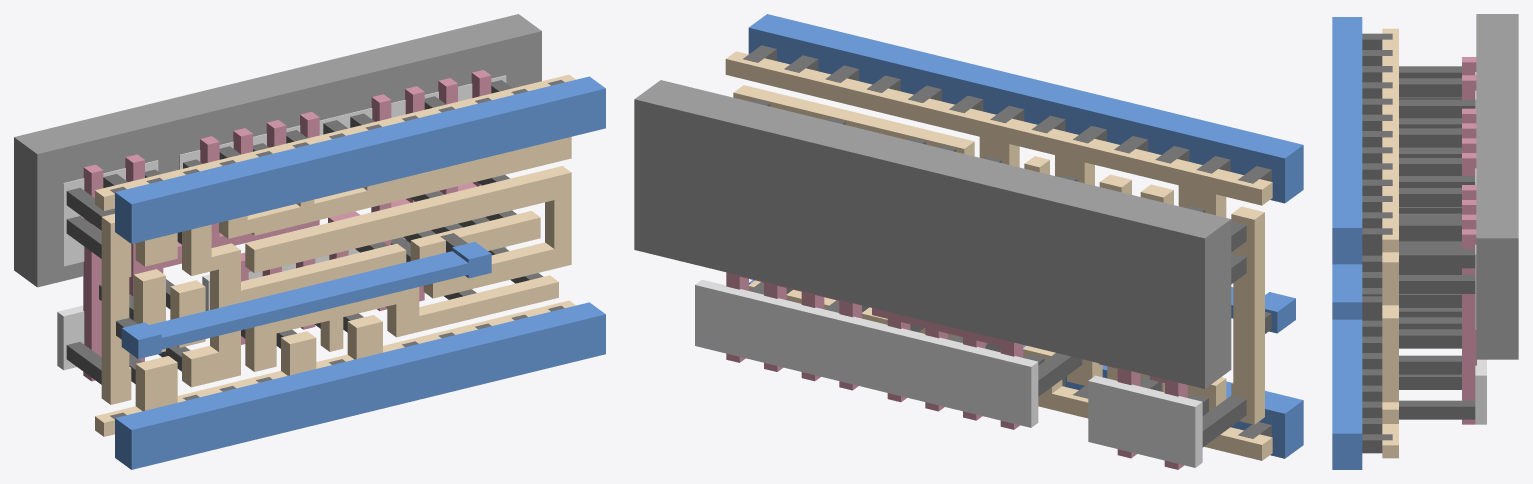
The model's file is sky130_fd_sc_hd__ebufn_4.gds.gltf.
3 views of the same model, side by side, from view 1: azimuth 30°, elevation 25°; view 2: azimuth 150°, elevation 25°; view 3: azimuth 270°, elevation 25° (orthographic). The views are drawn at different scales.
Parts seen in each view (by area): view 1: sky130_fd_sc_hd__ebufn_4_met1, sky130_fd_sc_hd__ebufn_4_li1, sky130_fd_sc_hd__ebufn_4_nwell, sky130_fd_sc_hd__ebufn_4_poly, sky130_fd_sc_hd__ebufn_4_licon, sky130_fd_sc_hd__ebufn_4_diff, sky130_fd_sc_hd__ebufn_4_mcon; view 2: sky130_fd_sc_hd__ebufn_4_nwell, sky130_fd_sc_hd__ebufn_4_li1, sky130_fd_sc_hd__ebufn_4_diff, sky130_fd_sc_hd__ebufn_4_met1, sky130_fd_sc_hd__ebufn_4_mcon, sky130_fd_sc_hd__ebufn_4_poly, sky130_fd_sc_hd__ebufn_4_licon; view 3: sky130_fd_sc_hd__ebufn_4_licon, sky130_fd_sc_hd__ebufn_4_nwell, sky130_fd_sc_hd__ebufn_4_met1, sky130_fd_sc_hd__ebufn_4_mcon, sky130_fd_sc_hd__ebufn_4_li1, sky130_fd_sc_hd__ebufn_4_poly, sky130_fd_sc_hd__ebufn_4_diff.
Part boxes in pixels (x1,y1,x2,y2): sky130_fd_sc_hd__ebufn_4_met1: [115, 76, 605, 469]; sky130_fd_sc_hd__ebufn_4_li1: [95, 74, 575, 436]; sky130_fd_sc_hd__ebufn_4_nwell: [14, 14, 541, 287]; sky130_fd_sc_hd__ebufn_4_poly: [83, 70, 491, 381]; sky130_fd_sc_hd__ebufn_4_licon: [66, 80, 543, 384]; sky130_fd_sc_hd__ebufn_4_diff: [57, 75, 506, 370]; sky130_fd_sc_hd__ebufn_4_mcon: [110, 80, 564, 419]; sky130_fd_sc_hd__ebufn_4_nwell: [634, 80, 1231, 388]; sky130_fd_sc_hd__ebufn_4_li1: [725, 51, 1272, 460]; sky130_fd_sc_hd__ebufn_4_diff: [695, 279, 1202, 467]; sky130_fd_sc_hd__ebufn_4_met1: [748, 14, 1303, 458]; sky130_fd_sc_hd__ebufn_4_mcon: [743, 45, 1271, 438]; sky130_fd_sc_hd__ebufn_4_poly: [726, 272, 1187, 469]; sky130_fd_sc_hd__ebufn_4_licon: [749, 99, 1246, 447]; sky130_fd_sc_hd__ebufn_4_licon: [1399, 66, 1475, 419]; sky130_fd_sc_hd__ebufn_4_nwell: [1476, 14, 1518, 359]; sky130_fd_sc_hd__ebufn_4_met1: [1332, 17, 1362, 469]; sky130_fd_sc_hd__ebufn_4_mcon: [1362, 33, 1392, 453]; sky130_fd_sc_hd__ebufn_4_li1: [1382, 28, 1398, 458]; sky130_fd_sc_hd__ebufn_4_poly: [1462, 57, 1476, 424]; sky130_fd_sc_hd__ebufn_4_diff: [1475, 72, 1486, 424].
Size of the model in its own units: 6.36 by 3.2 by 2.24.
